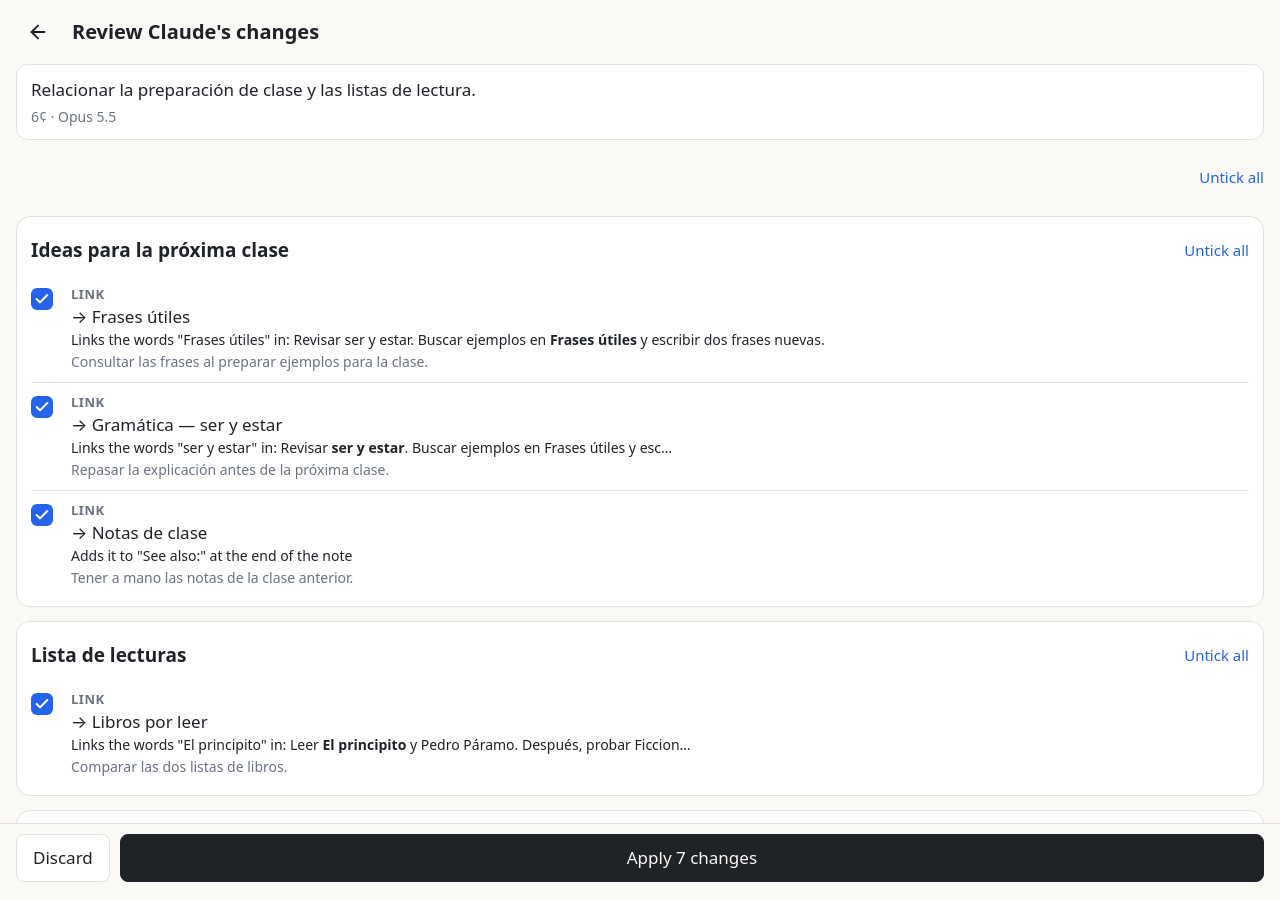
Test: groups by source with both placements, defaults all ticked, supports row/note untick and writes only approved links
Expected: the button "Apply 7 changes" is enabled, [120,834,1264,882]
Expected: the text "Links the words" is shown 2 times, [71,330,825,348]; [71,438,672,456]
What coordinates should you click on to do the following:
click the checkbox named "→ Gramática — ser y estar"
I would click on:
 (42, 406)
Its box is [31,396,53,418].
(page scrolled)
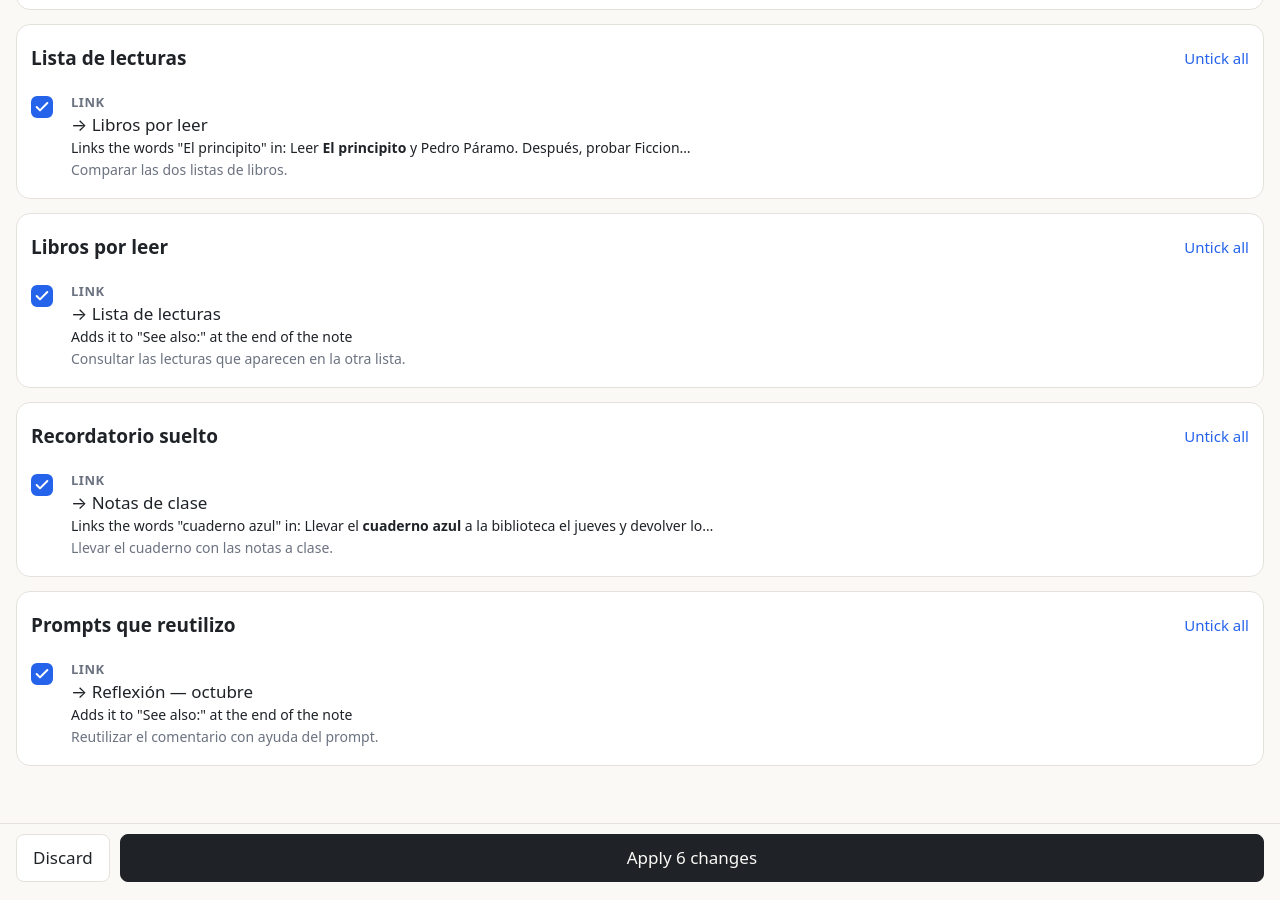
Now the button "Apply 6 changes" is shown, box [120,834,1264,882]
What coordinates should you click on to do the following:
click the button "Untick all" in the row of "Prompts que reutilizo"
I would click on:
 (1217, 626)
Its box is [1184,604,1249,648].
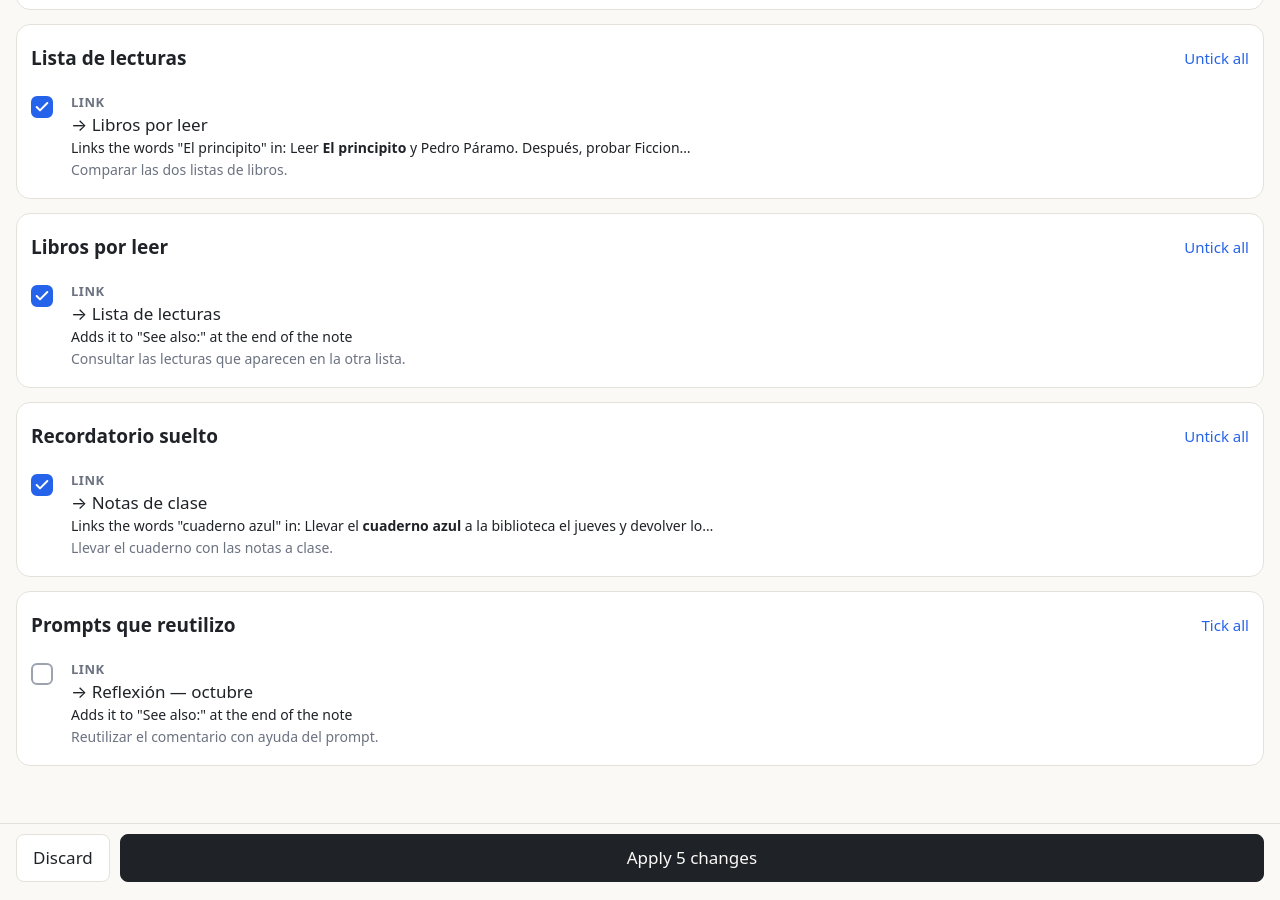
Now the button "Apply 5 changes" is shown, box [120,834,1264,882]
What coordinates should you click on to do the following:
click the button "Tick all"
I would click on:
 (1225, 626)
Its box is [1202,604,1249,648].
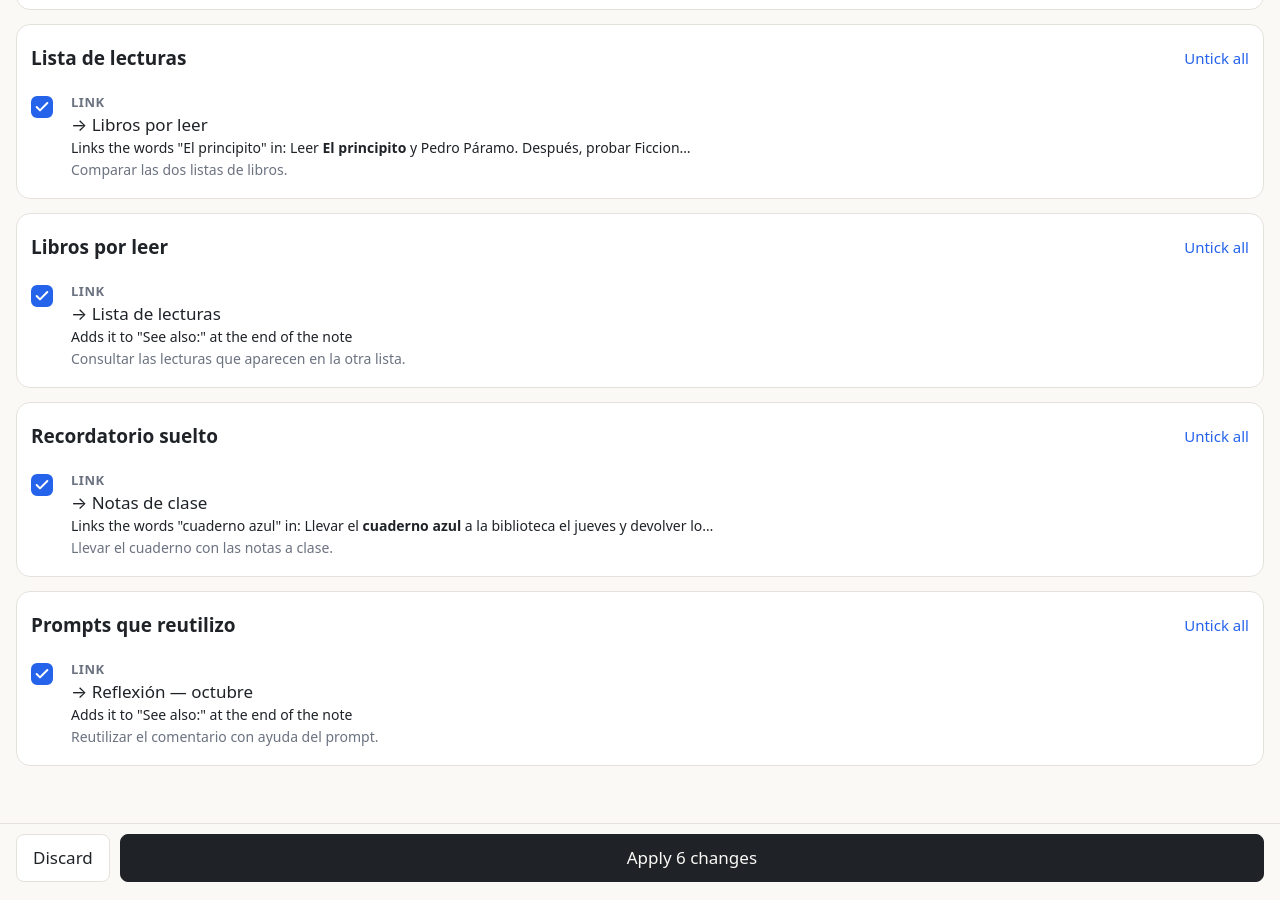
Now the button "Apply 6 changes" is shown, box [120,834,1264,882]
What coordinates should you click on to do the following:
click the button "Untick all" in the row of "Prompts que reutilizo"
I would click on:
 (1217, 626)
Its box is [1184,604,1249,648].
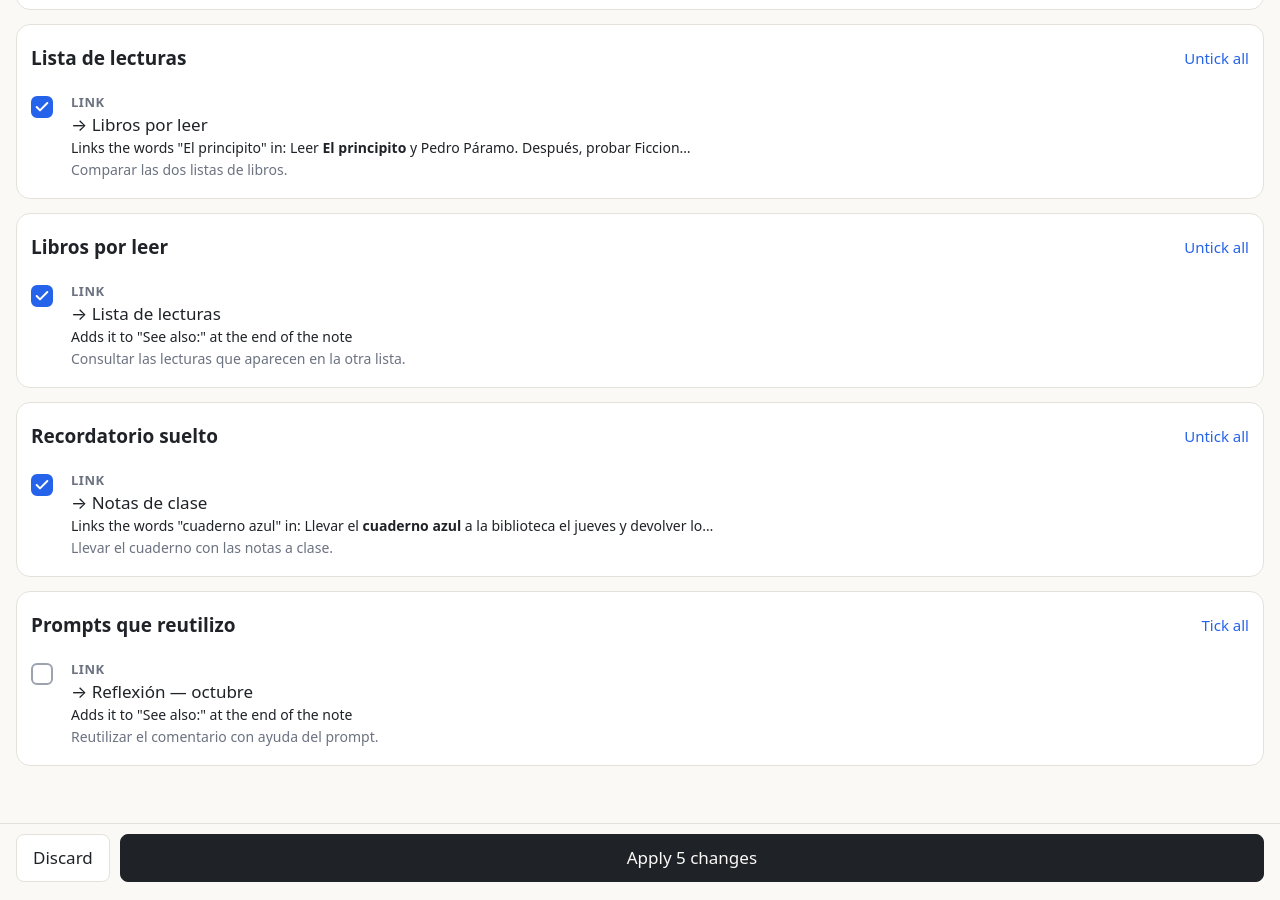
What coordinates should you click on to do the following:
click the button "Apply 5 changes"
I would click on:
 (692, 858)
Its box is [120,834,1264,882].
(page scrolled)
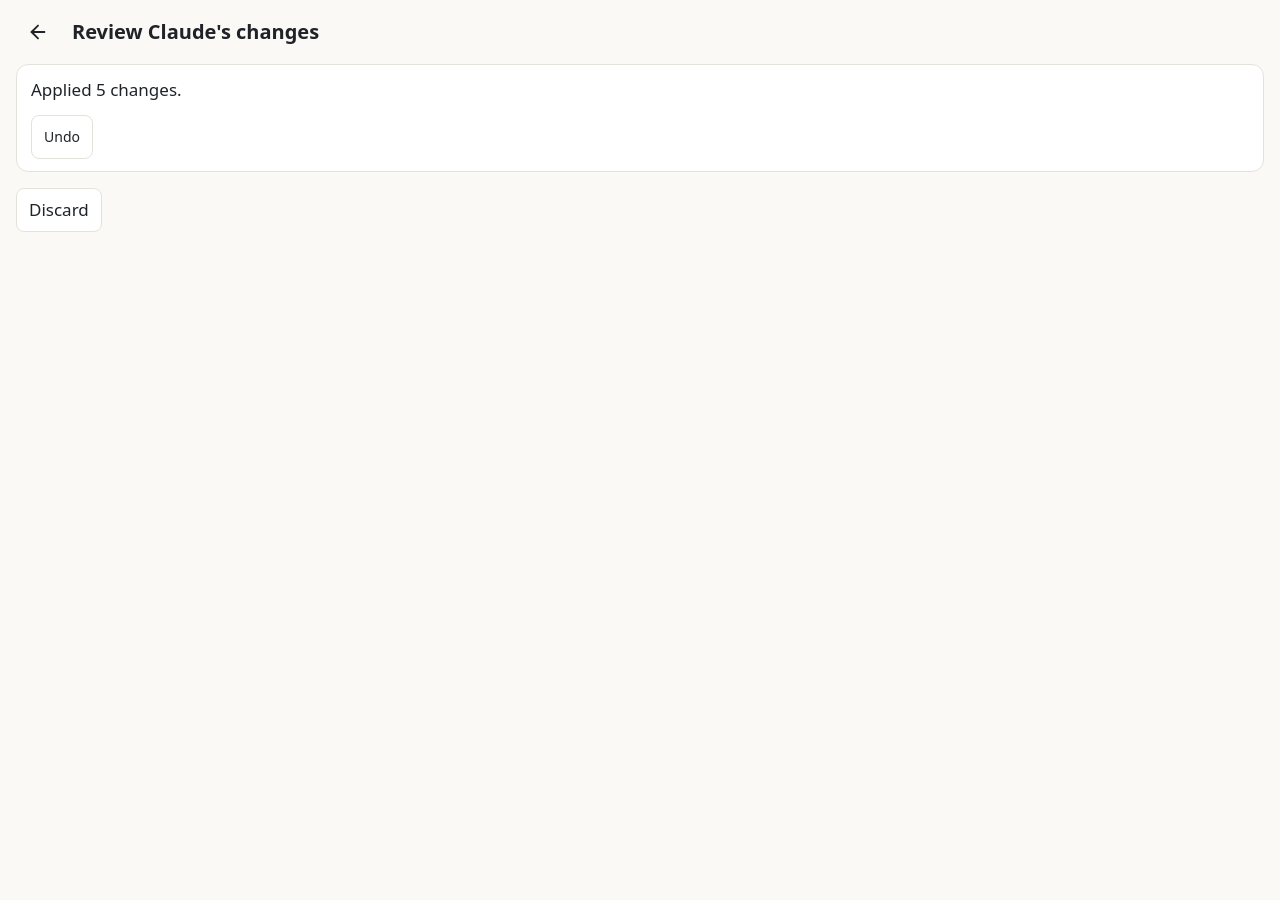
Now the text "Applied 5 changes." is shown, box [31,78,182,101]
